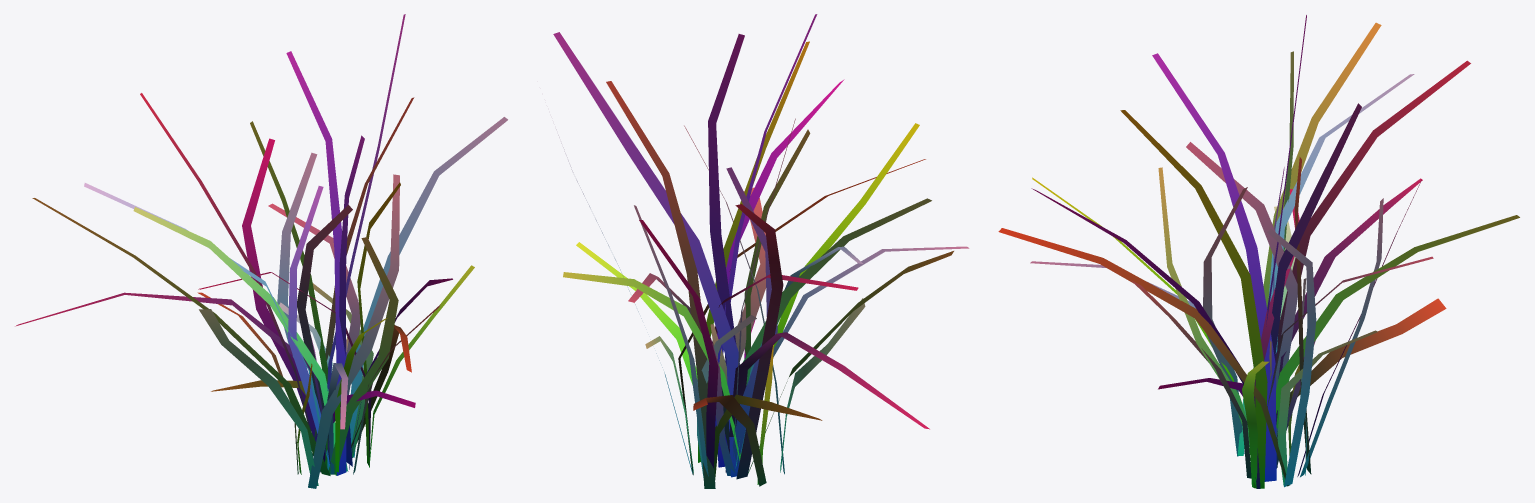
File: Wild_Grass_sjliZ_Mid_sjliZ_VarB_LOD0.fbx
3 views of the same model, side by side, from view 1: azimuth 30°, elevation 25°; view 2: azimuth 150°, elevation 25°; view 3: azimuth 270°, elevation 25° (orthographic). The views are drawn at different scales.
Visible parts, largest first — view 1: _11dd_VarB_LOD1; view 2: _11dd_VarB_LOD1; view 3: _11dd_VarB_LOD1.
Part boxes in pixels (x1,y1,x2,y2): _11dd_VarB_LOD1: (15,14,507,488); _11dd_VarB_LOD1: (553,14,969,488); _11dd_VarB_LOD1: (998,15,1519,488).
Bounding box in the file's own units: 53.39 × 49.76 × 52.99.
